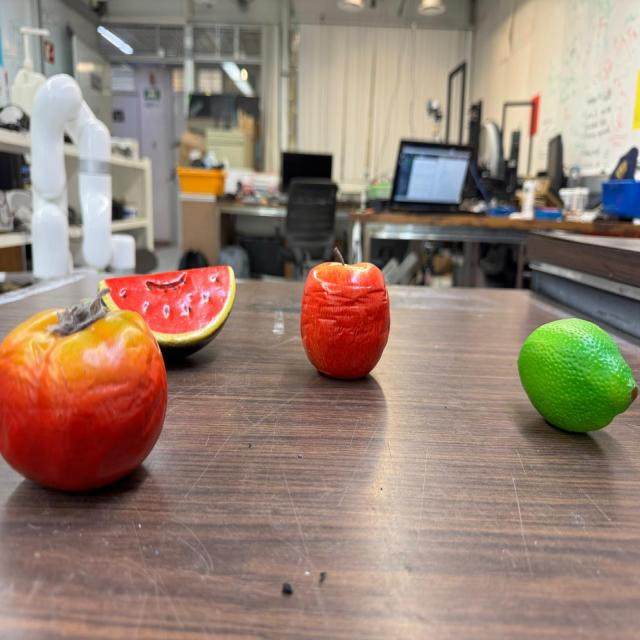apple: (300, 250, 392, 379)
lemon: (516, 319, 638, 433)
tomato: (0, 291, 168, 490)
watermelon: (102, 264, 236, 354)
